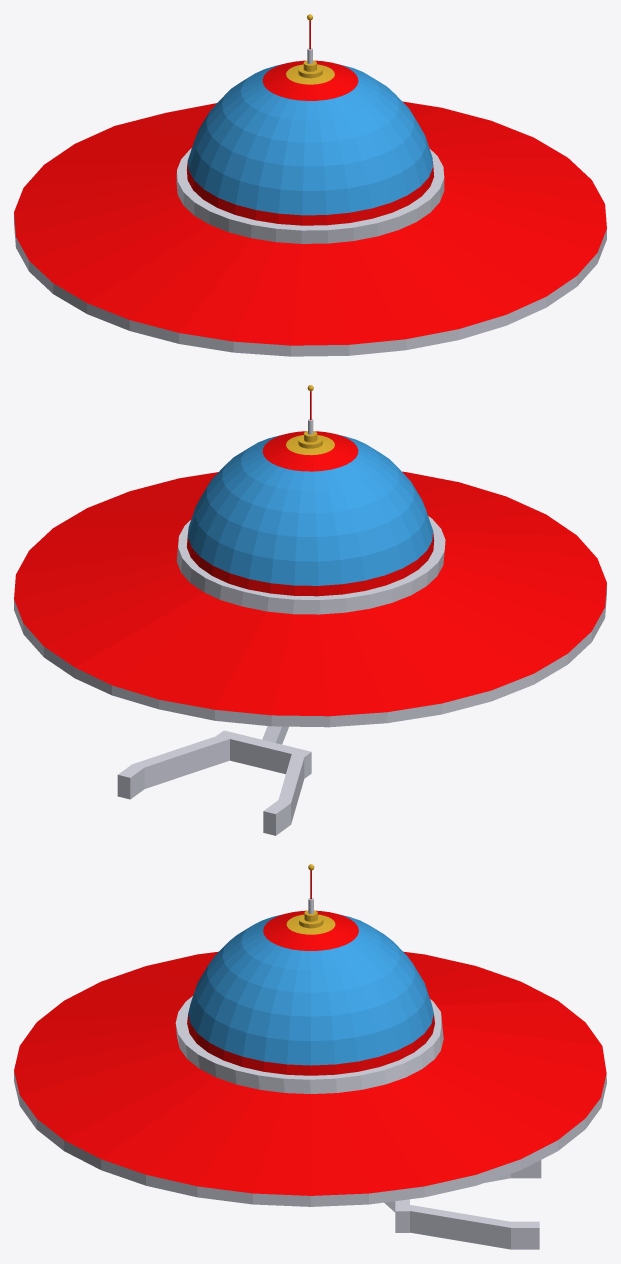
The model's file is spaceShip.fbx.
3 renders of one model, top to bottom at view 1: azimuth 30°, elevation 25°; view 2: azimuth 150°, elevation 25°; view 3: azimuth 270°, elevation 25°, orthographic.
Visible parts, largest first — view 1: Nave kamikaze; view 2: Nave kamikaze; view 3: Nave kamikaze.
Part boxes in pixels (<box>): Nave kamikaze: <box>14,14,606,356</box>; Nave kamikaze: <box>14,385,606,835</box>; Nave kamikaze: <box>14,864,606,1249</box>.
Size of the model in its own units: 2588 by 1667 by 2583.
